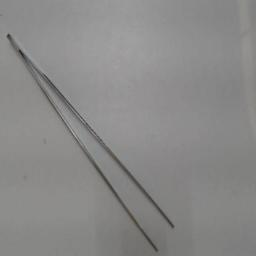DeBakey Dissector: (2, 26, 178, 254)
